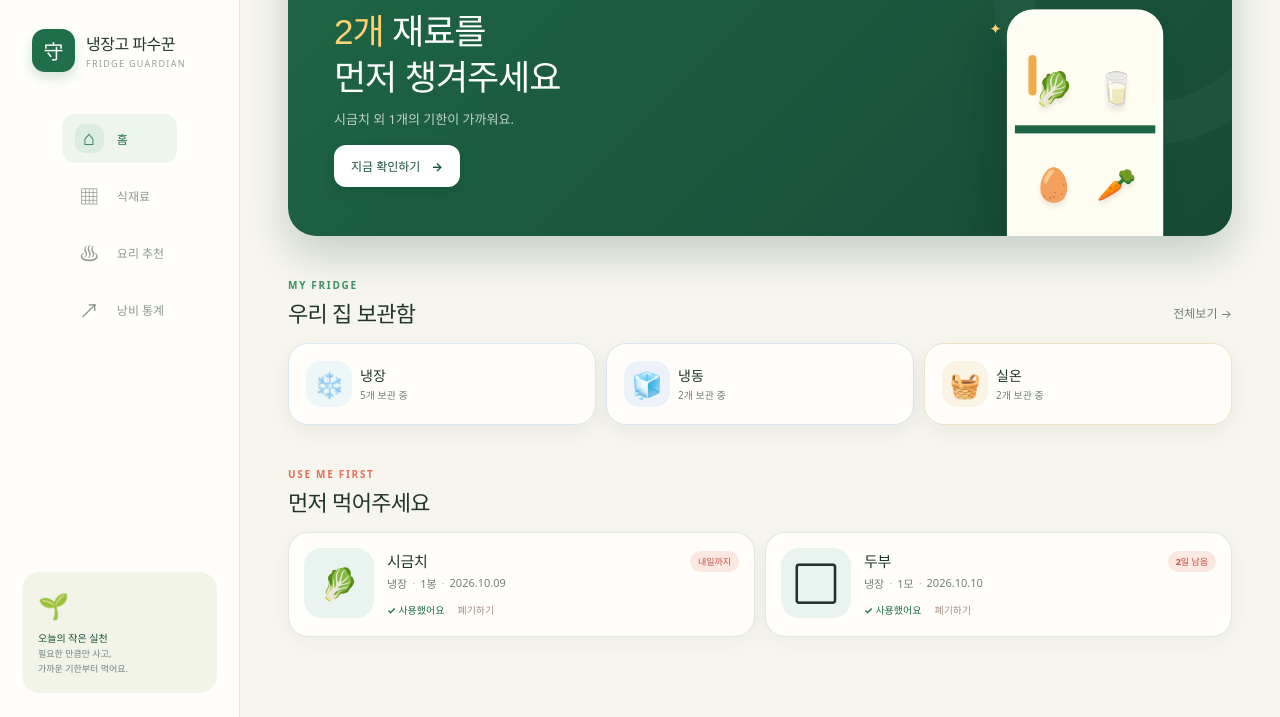
Test: 냉장고 파수꾼 › 식재료를 사용 완료로 처리한다
The width and height of the screenshot is (1280, 717).
(page scrolled)
Click the button with aria-label "시금치 사용 완료". click: {"x": 416, "y": 609}
box: [387,598,444,621]
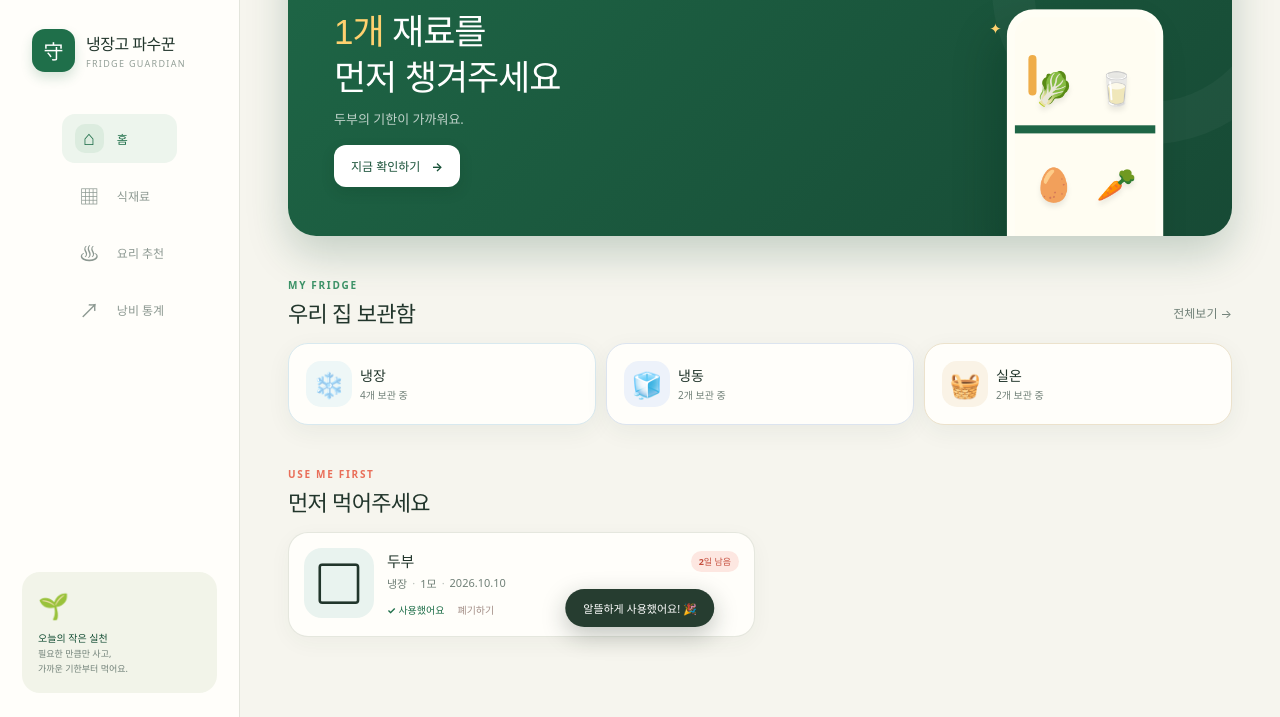
Expected: the message shows "알뜰하게 사용했어요!", [583,601,697,616]
